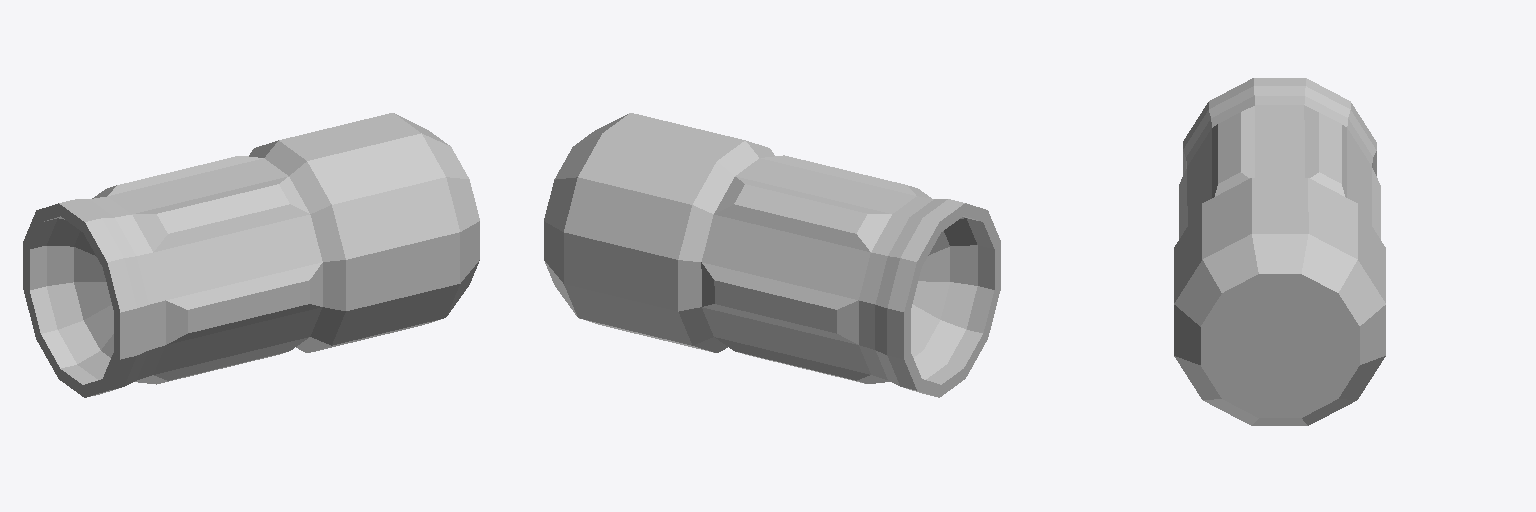
Rendered from Spotlight.obj.
3 renders of one model, left to right at view 1: azimuth 30°, elevation 25°; view 2: azimuth 150°, elevation 25°; view 3: azimuth 270°, elevation 25°, orthographic.
Parts seen in each view (by area): view 1: Cylinder.042_Cylinder.004; view 2: Cylinder.042_Cylinder.004; view 3: Cylinder.042_Cylinder.004.
Boxes of the visible parts, <box> form: Cylinder.042_Cylinder.004: <box>23,113,479,397</box>; Cylinder.042_Cylinder.004: <box>544,113,1000,397</box>; Cylinder.042_Cylinder.004: <box>1174,78,1385,425</box>.
Size of the model in its own units: 0.5098 by 0.2541 by 0.254.